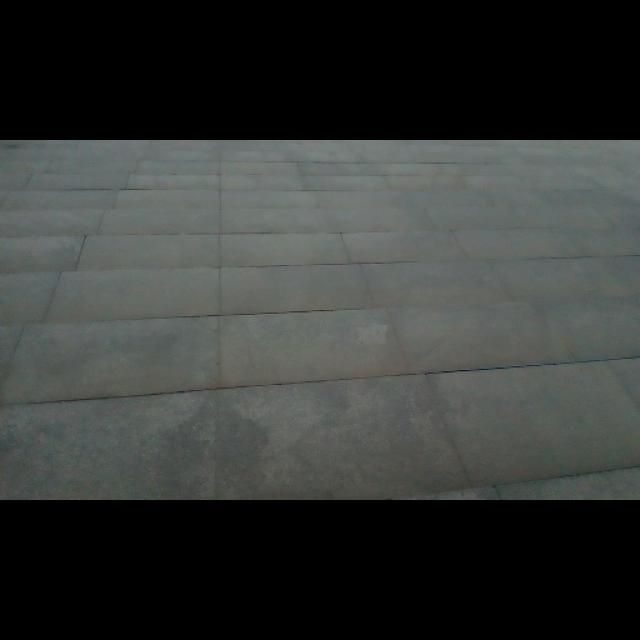stair: (6, 162, 640, 485)
